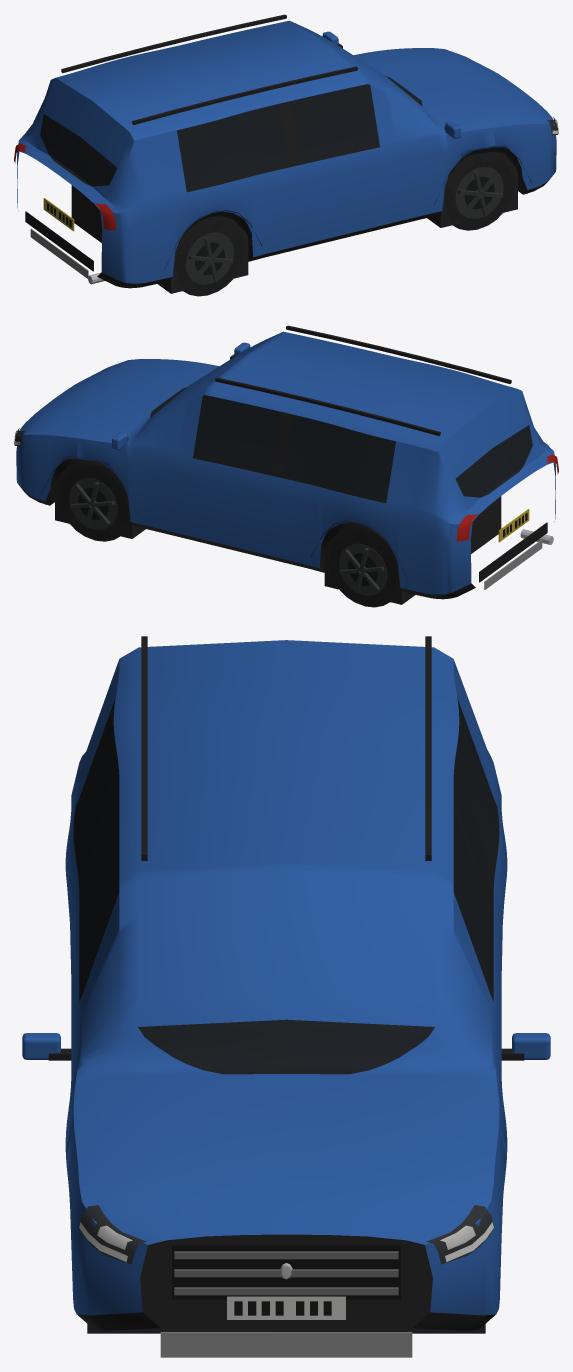
File: SM_Prop_parked_car_108.glb
3 views of the same model, one above another, from view 1: azimuth 30°, elevation 25°; view 2: azimuth 150°, elevation 25°; view 3: azimuth 270°, elevation 25° (orthographic). The views are drawn at different scales.
Visible parts, largest first — view 1: SM_Prop_parked_car_108; view 2: SM_Prop_parked_car_108; view 3: SM_Prop_parked_car_108.
Part boxes in pixels (box(x1,y1,x2,y2)): SM_Prop_parked_car_108: box(14, 14, 558, 296); SM_Prop_parked_car_108: box(14, 325, 558, 607); SM_Prop_parked_car_108: box(22, 636, 550, 1357).
Bounding box in the file's own units: 4.68 × 1.75 × 2.31.
